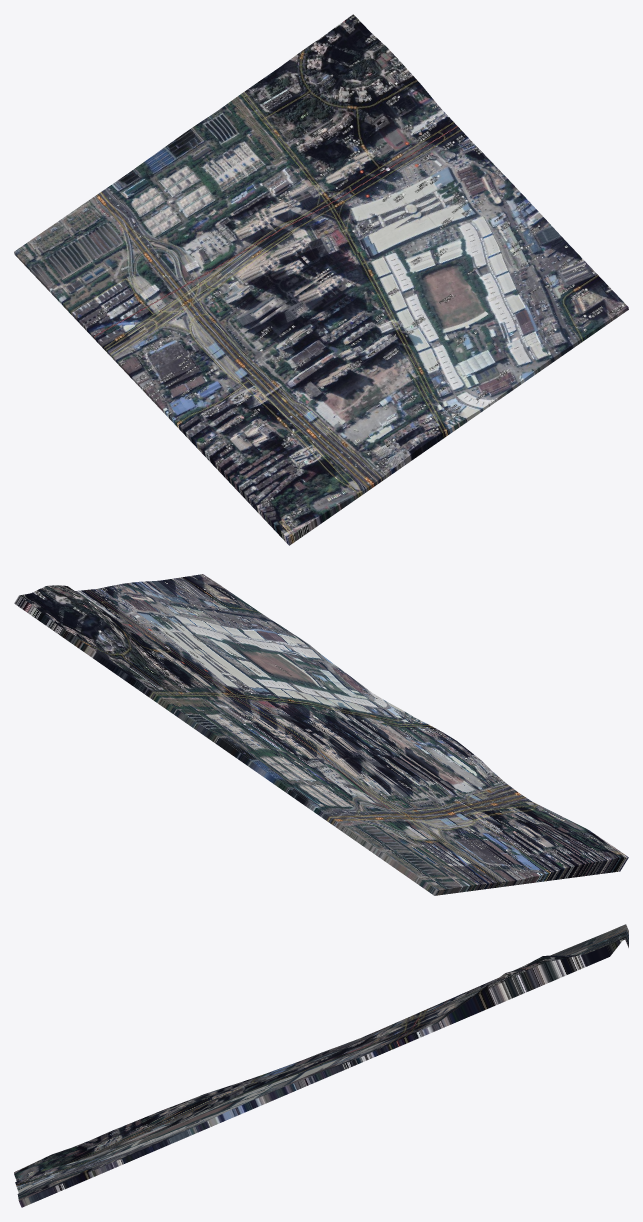
3 views of the same model, one above another, from view 1: azimuth 30°, elevation 25°; view 2: azimuth 150°, elevation 25°; view 3: azimuth 270°, elevation 25° (orthographic). The views are drawn at different scales.
Parts seen in each view (by area): view 1: 1_5_13; view 2: 1_5_13; view 3: 1_5_13.
Part boxes in pixels (x1,y1,x2,y2): 1_5_13: (14,14,628,545); 1_5_13: (14,574,628,895); 1_5_13: (14,924,628,1207).
Size of the model in its own units: 1228 by 902 by 1133.
Materials: 1 (1 with a texture image).
